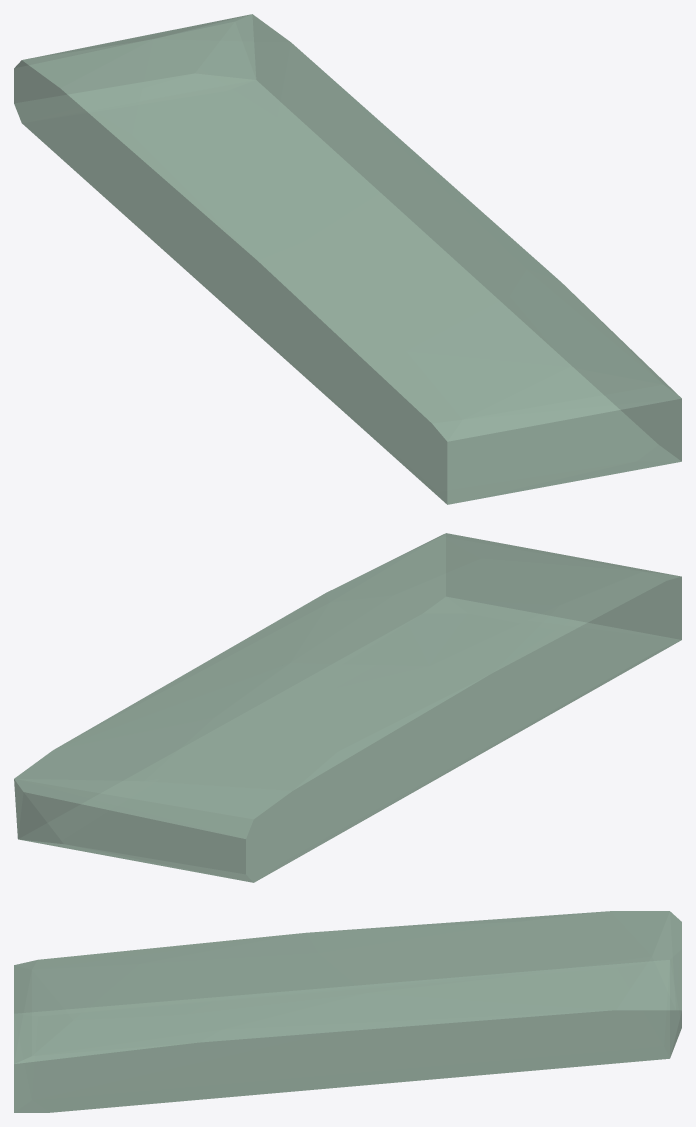
3 views of the same model, one above another, from view 1: azimuth 30°, elevation 25°; view 2: azimuth 150°, elevation 25°; view 3: azimuth 270°, elevation 25° (orthographic). The views are drawn at different scales.
Parts seen in each view (by area): view 1: Shape_IndexedFaceSet.017_Shape_IndexedFaceSet.7623; view 2: Shape_IndexedFaceSet.017_Shape_IndexedFaceSet.7623; view 3: Shape_IndexedFaceSet.017_Shape_IndexedFaceSet.7623.
Part boxes in pixels (left/top/right/bottom): Shape_IndexedFaceSet.017_Shape_IndexedFaceSet.7623: left=14, top=14, right=681, bottom=504; Shape_IndexedFaceSet.017_Shape_IndexedFaceSet.7623: left=14, top=533, right=681, bottom=882; Shape_IndexedFaceSet.017_Shape_IndexedFaceSet.7623: left=14, top=911, right=681, bottom=1112.
Size of the model in its own units: 0.0716 by 0.0429 by 0.229.
